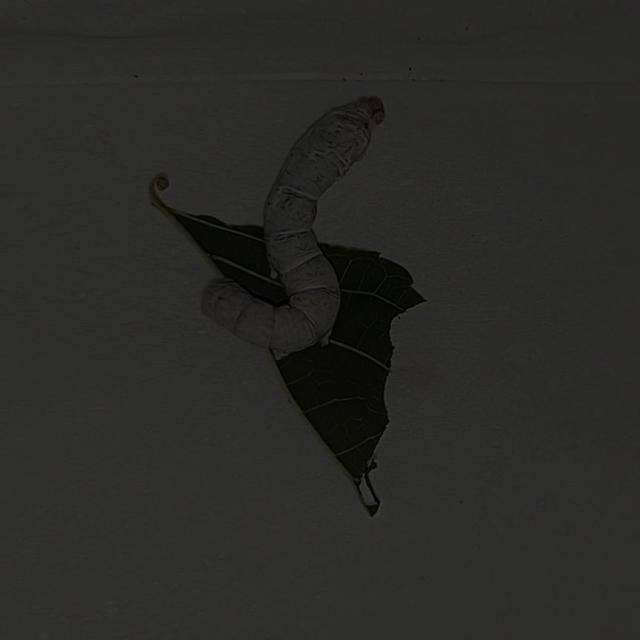Healthy: (145, 67, 462, 405)
